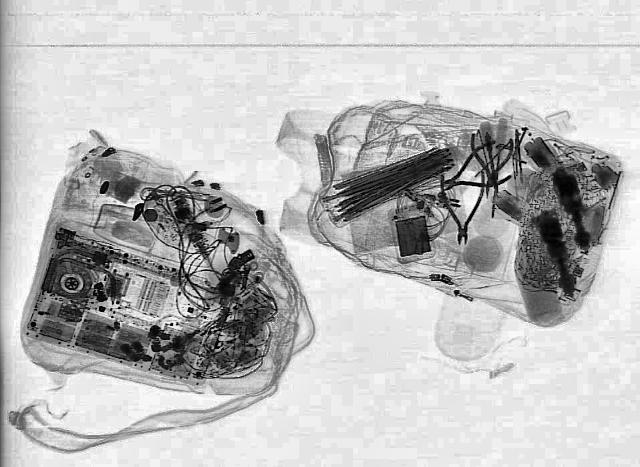Pliers: (425, 140, 525, 202), (464, 130, 514, 217), (438, 171, 487, 244)
